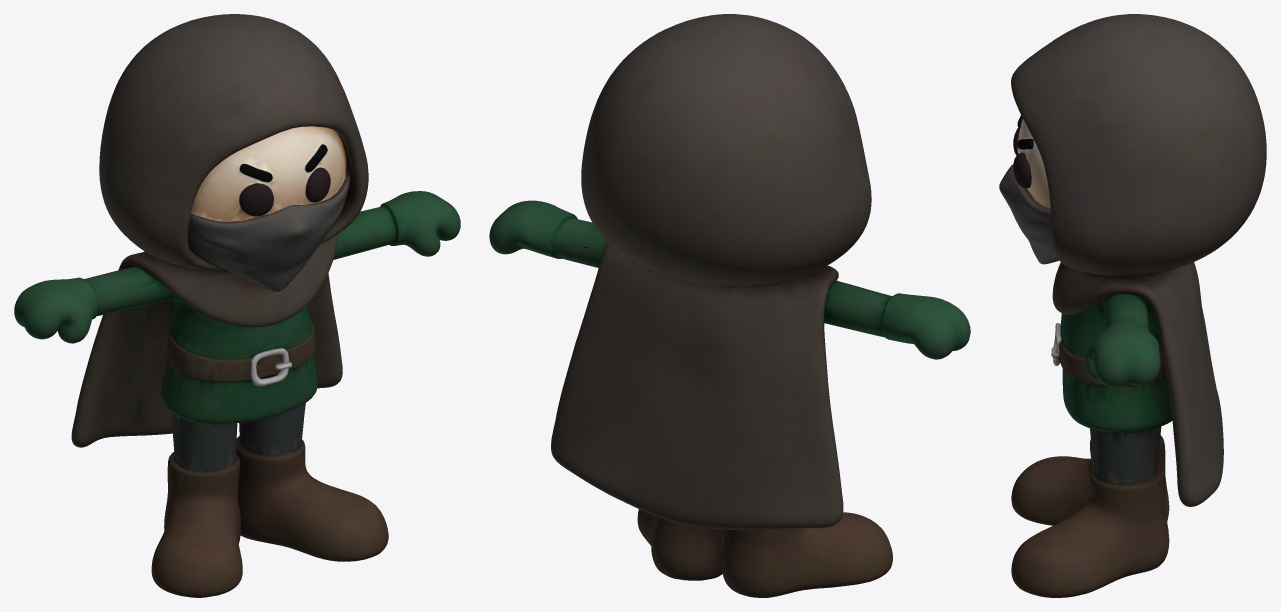
The model's file is a3D-ladron.glb.
3 views of the same model, side by side, from view 1: azimuth 30°, elevation 25°; view 2: azimuth 150°, elevation 25°; view 3: azimuth 270°, elevation 25° (orthographic). The views are drawn at different scales.
Visible parts, largest first — view 1: geometry_0; view 2: geometry_0; view 3: geometry_0.
Part boxes in pixels (bbox=[...]): geometry_0: bbox=[14, 14, 460, 597]; geometry_0: bbox=[489, 14, 970, 597]; geometry_0: bbox=[999, 14, 1266, 597].
Size of the model in its own units: 1.68 by 1.9 by 0.8875.
1 material, 1 textured.
